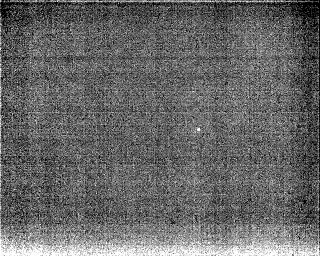BIRD: (195, 125, 203, 134)
